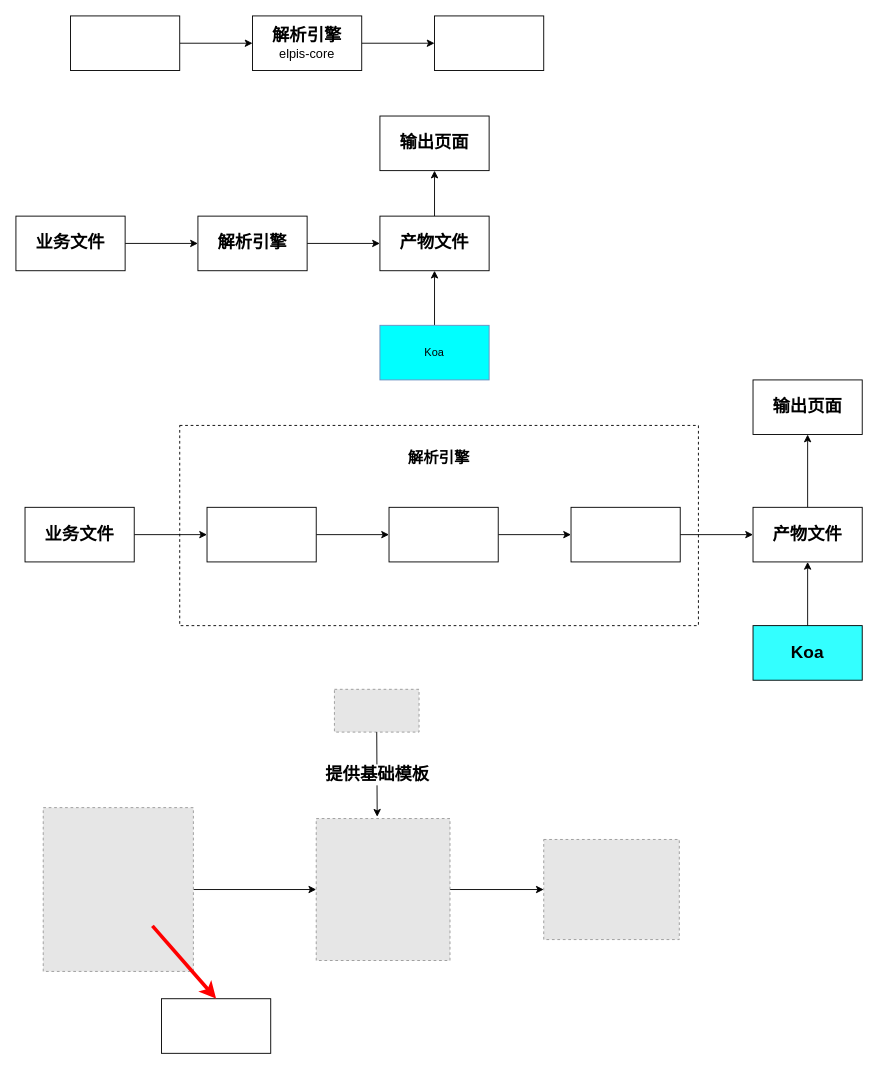
This 878x1069 diagram has some shape labels left out. Grey dashed boxes stand in for pictures. Each missing label, with the centre of its shape:
"压缩优化" belongs at [625,534].
"多页面入口应用 （页面1）" belongs at [216,1025].
"模块分包" belongs at [443,534].
"磁盘文件 app 目录" belongs at [125,43].
"解析编译" belongs at [261,534].
"运行时 内存" belongs at [489,43].
